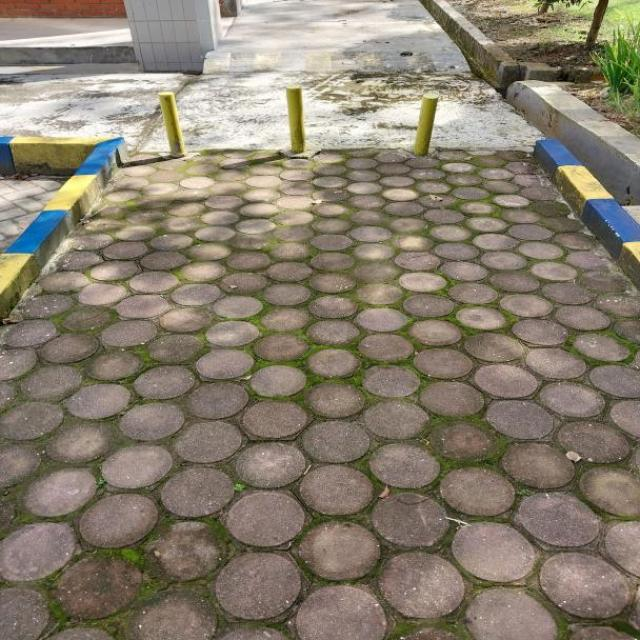barrier ahead at: (273, 78, 312, 162), (150, 85, 196, 154), (409, 83, 446, 162)
